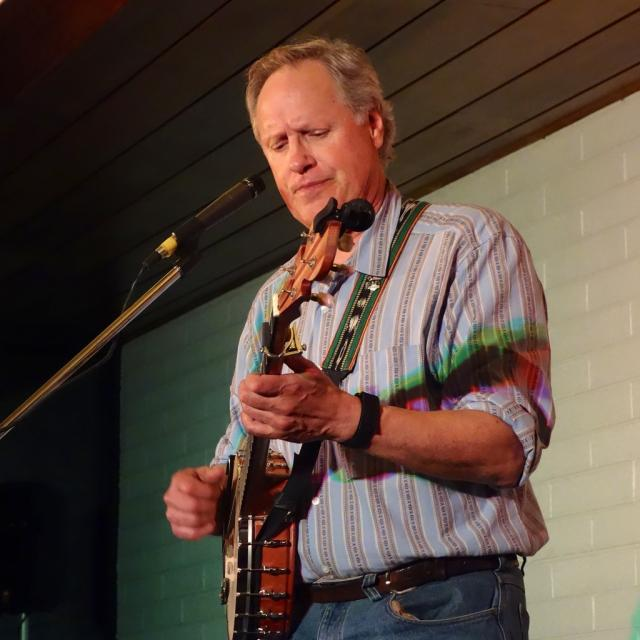no_helmet: (225, 26, 382, 89)
